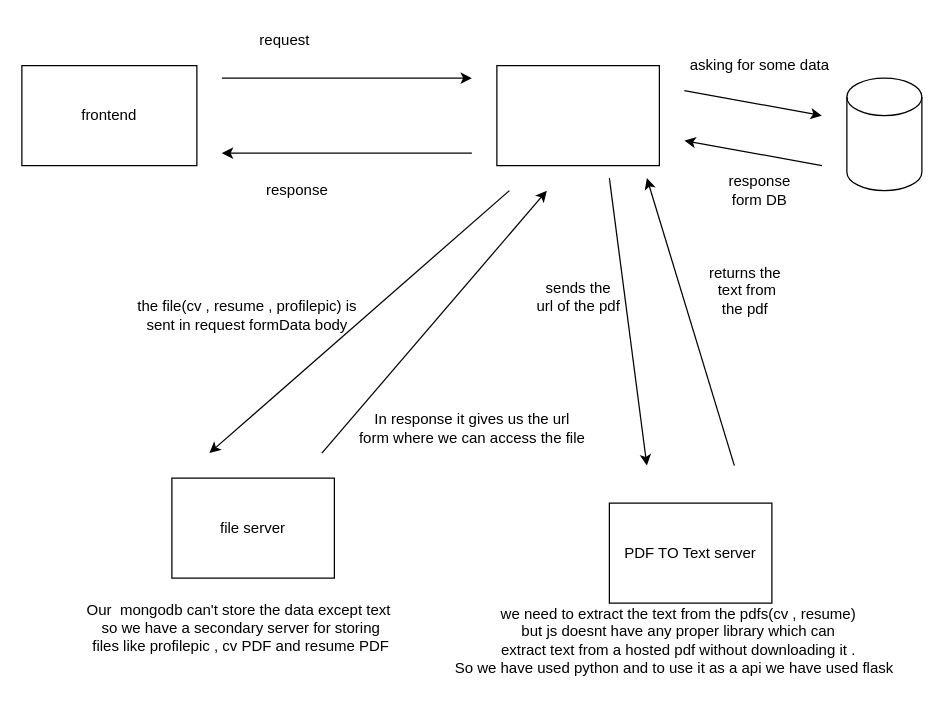
Some shapes in this 944 by 705 pixel diagram are drawn without their labels. Each missing label, with the box of its shape:
backend: (496, 64, 659, 166)
database: (846, 77, 922, 191)
